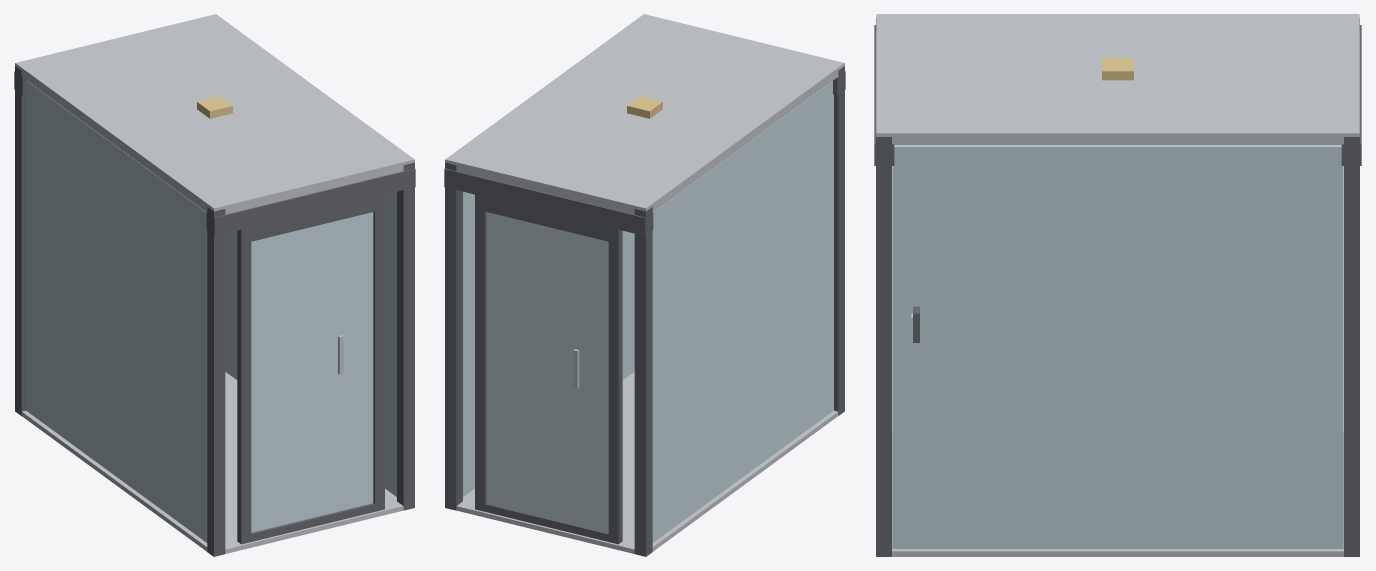
File: bank-vault-heist-kit-mantrap-booth-febad50c__25077.glb
3 renders of one model, left to right at view 1: azimuth 30°, elevation 25°; view 2: azimuth 150°, elevation 25°; view 3: azimuth 270°, elevation 25°, orthographic. The views are drawn at different scales.
Visible parts, largest first — view 1: mantrap-booth, outer-door (×2); view 2: mantrap-booth, inner-door (×2); view 3: mantrap-booth.
Part boxes in pixels (box(x1,y1,x2,y2)): mantrap-booth: box(14, 14, 415, 556); outer-door (×2): box(237, 194, 384, 544); mantrap-booth: box(444, 14, 845, 556); inner-door (×2): box(475, 194, 622, 544); mantrap-booth: box(874, 14, 1361, 556).
Bounding box in the file's own units: 1.46 × 2.37 × 2.42.
